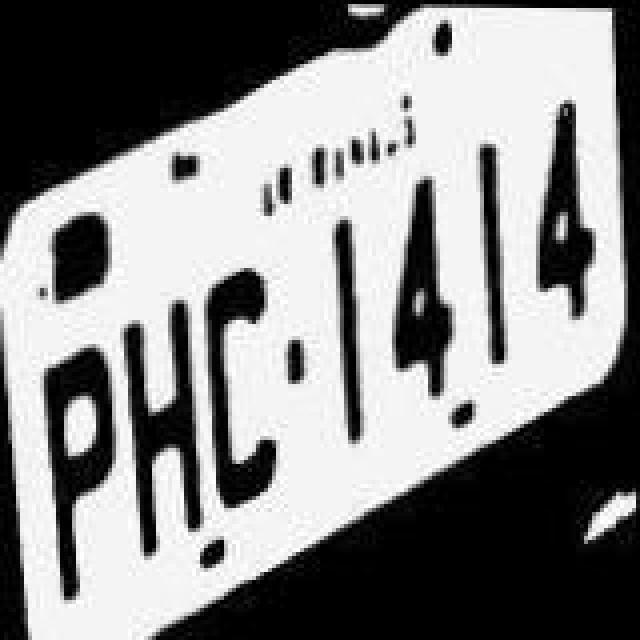1: (326, 202, 382, 478), (472, 114, 516, 394)
4: (528, 72, 604, 356), (386, 162, 458, 406)
C: (208, 242, 284, 522)
H: (122, 282, 194, 554)
P: (38, 326, 118, 602)
